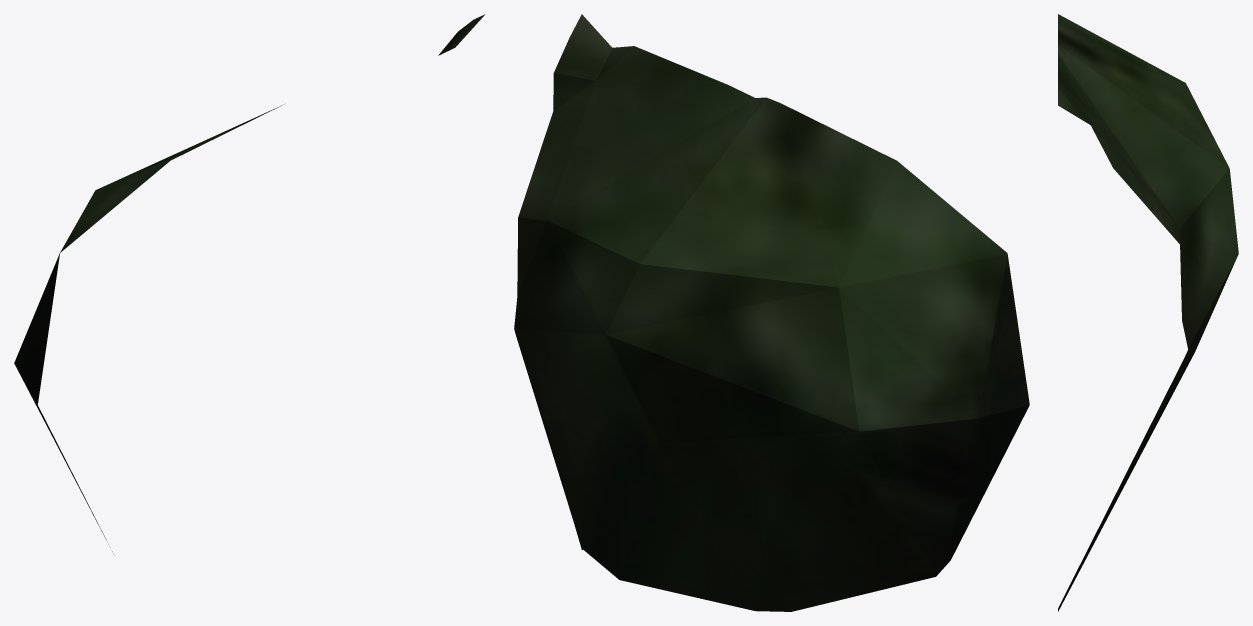
3 views of the same model, side by side, from view 1: azimuth 30°, elevation 25°; view 2: azimuth 150°, elevation 25°; view 3: azimuth 270°, elevation 25° (orthographic). The views are drawn at different scales.
Bounding box in the file's own units: 0.2494 × 0.2963 × 0.0907.
1 material, 1 textured.
